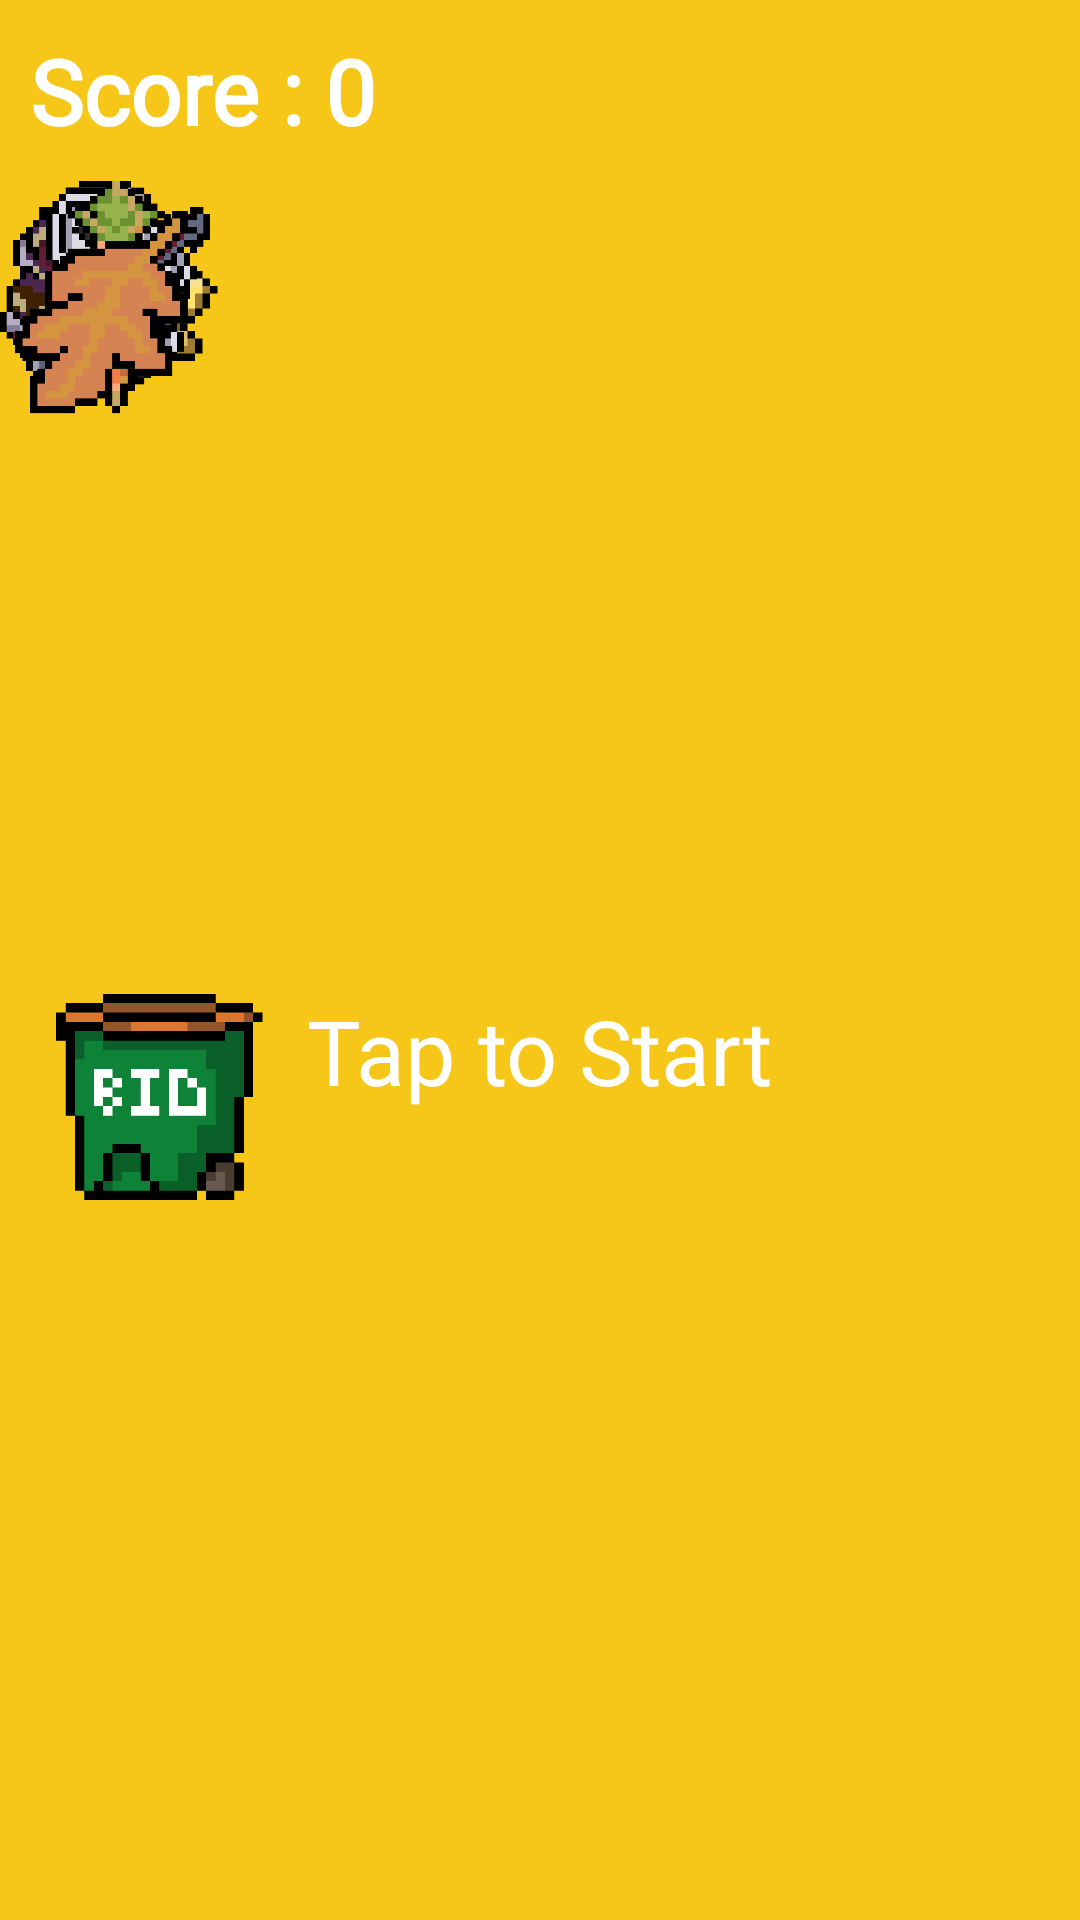

Icons on this 1080px x 1920px Android screen, each with its box as {"left": x1, "top": y1, "right": x2, "bottom": y2}:
trashbin: {"left": 56, "top": 994, "right": 263, "bottom": 1200}
